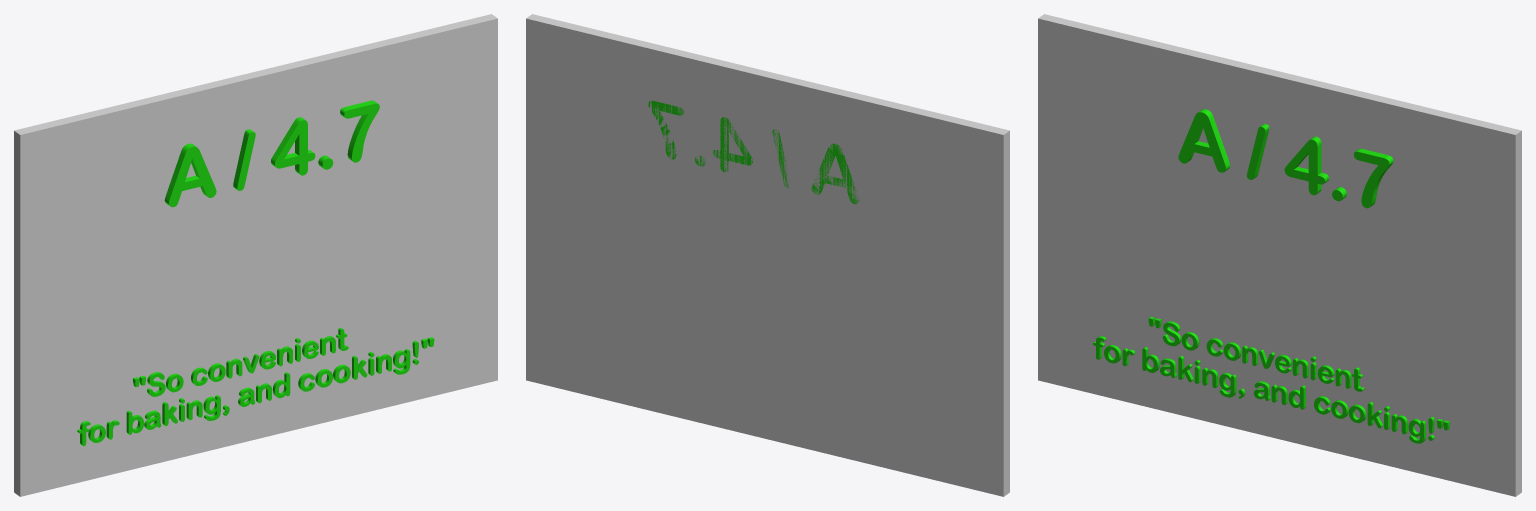
The picture shows the model from 3 angles, left to right: view 1: azimuth 30°, elevation 25°; view 2: azimuth 150°, elevation 25°; view 3: azimuth 330°, elevation 25°; orthographic projection.
Parts seen in each view (by area): view 1: a381b577-38d8-4444-8264-d8c7362a8659, fe4bb083-49ab-43f6-b84e-d6e4a515ef9c, af47ee58-b551-42e6-812c-d4c07e0c00b1, de7df9d3-165a-4be6-8d82-64926246efd9, b26c2122-93ee-49e6-824d-1f4325c21611; view 2: a381b577-38d8-4444-8264-d8c7362a8659, fe4bb083-49ab-43f6-b84e-d6e4a515ef9c, af47ee58-b551-42e6-812c-d4c07e0c00b1, de7df9d3-165a-4be6-8d82-64926246efd9; view 3: a381b577-38d8-4444-8264-d8c7362a8659, fe4bb083-49ab-43f6-b84e-d6e4a515ef9c, af47ee58-b551-42e6-812c-d4c07e0c00b1, de7df9d3-165a-4be6-8d82-64926246efd9, b26c2122-93ee-49e6-824d-1f4325c21611.
Part boxes in pixels (<box>): a381b577-38d8-4444-8264-d8c7362a8659: <box>14,14,497,496</box>; fe4bb083-49ab-43f6-b84e-d6e4a515ef9c: <box>164,143,216,207</box>; af47ee58-b551-42e6-812c-d4c07e0c00b1: <box>271,117,315,175</box>; de7df9d3-165a-4be6-8d82-64926246efd9: <box>340,100,379,162</box>; b26c2122-93ee-49e6-824d-1f4325c21611: <box>233,129,255,190</box>; a381b577-38d8-4444-8264-d8c7362a8659: <box>526,14,1009,496</box>; fe4bb083-49ab-43f6-b84e-d6e4a515ef9c: <box>811,143,859,204</box>; af47ee58-b551-42e6-812c-d4c07e0c00b1: <box>713,117,752,172</box>; de7df9d3-165a-4be6-8d82-64926246efd9: <box>648,100,683,159</box>; a381b577-38d8-4444-8264-d8c7362a8659: <box>1038,14,1521,496</box>; fe4bb083-49ab-43f6-b84e-d6e4a515ef9c: <box>1178,109,1230,172</box>; af47ee58-b551-42e6-812c-d4c07e0c00b1: <box>1284,136,1328,195</box>; de7df9d3-165a-4be6-8d82-64926246efd9: <box>1354,148,1393,208</box>; b26c2122-93ee-49e6-824d-1f4325c21611: <box>1247,123,1269,179</box>.
Size of the model in its own units: 0.51 by 0.019 by 0.3692.
